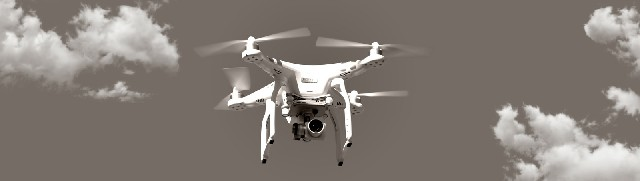maybay_khongnguoilai: (190, 34, 404, 164)
